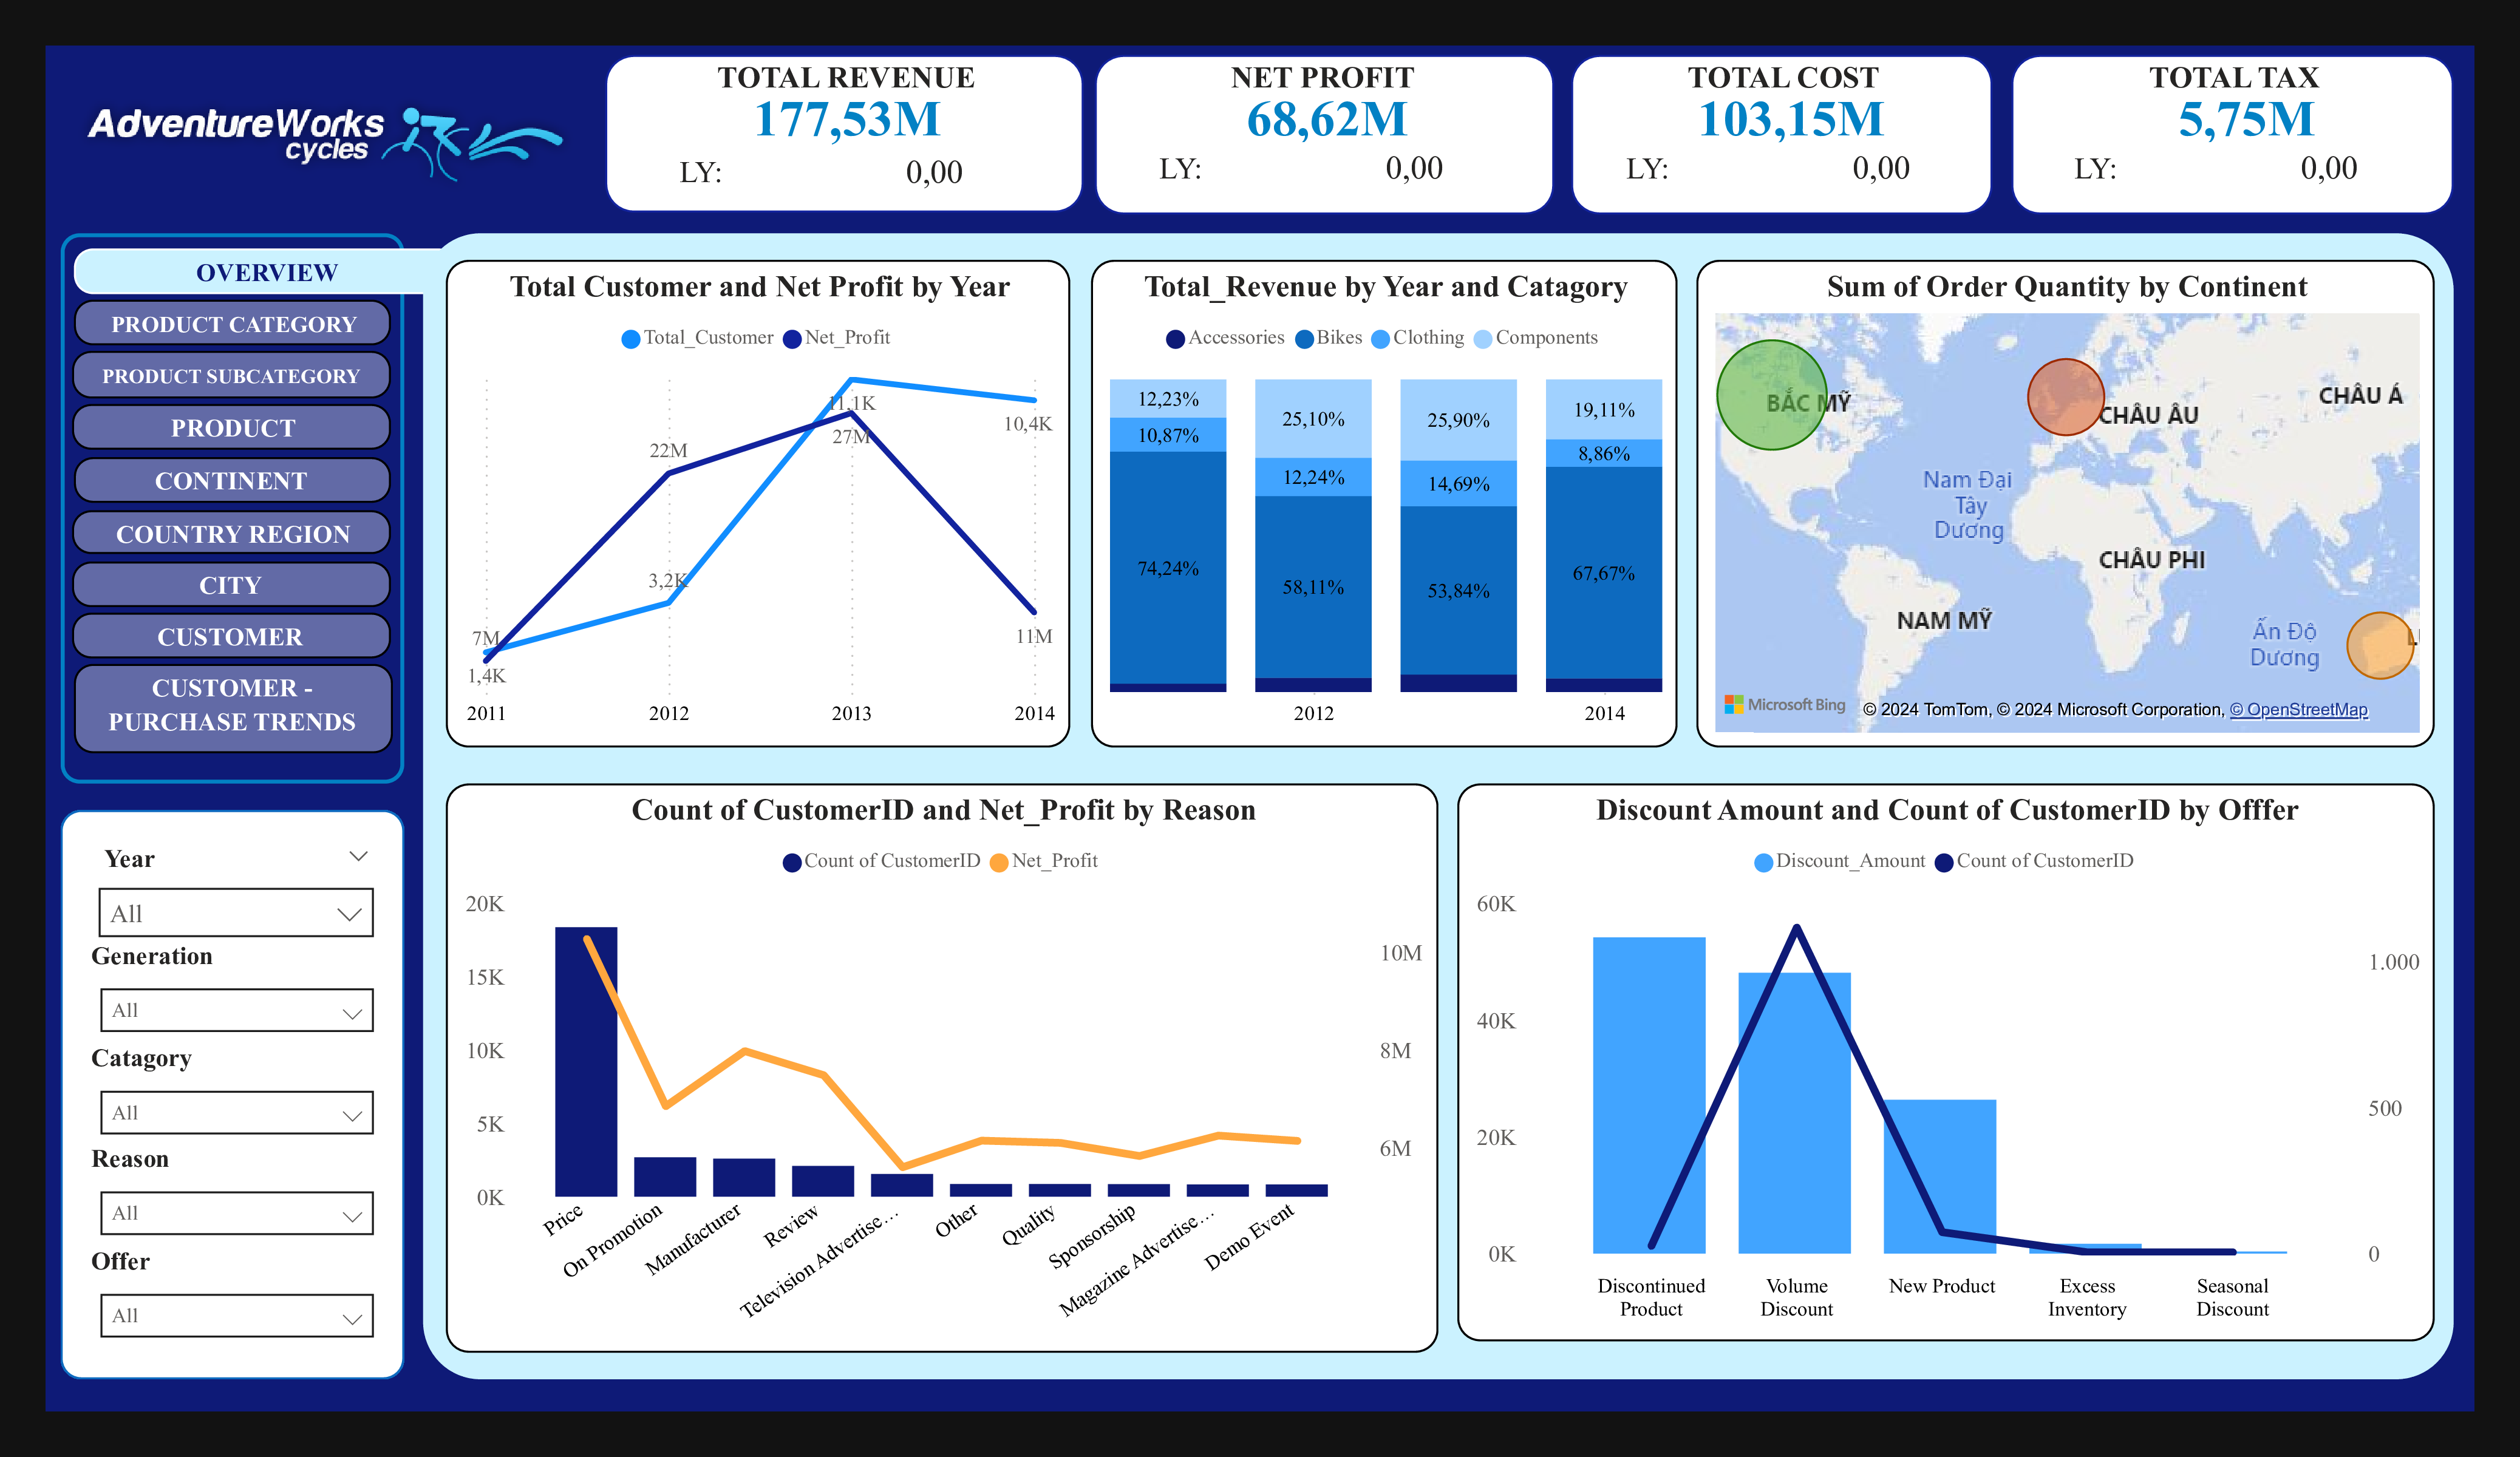

The page's visual inventory and layout, read from the dashboard file:
{"tool":"powerbi","page":{"name":"Overview ","canvas":[1280,720],"ordinal":0},"visuals":[{"type":"textbox","box":[295.4,4.6,251.2,83.5],"z":0},{"type":"group","id":"g1","title":"Group 3","box":[828.3,50.9,94.3,29.3],"z":0,"group":"g7"},{"type":"textbox","box":[828.3,50.9,83.6,29.3],"z":0,"group":"g1"},{"type":"group","id":"g2","title":"Group 3","box":[1064.3,50.9,94.3,29.3],"z":0,"group":"g8"},{"type":"textbox","box":[1064.3,50.9,83.6,29.3],"z":0,"group":"g2"},{"type":"group","id":"g3","title":"Group 3","box":[581.9,51,94.3,29.3],"z":0,"group":"g6"},{"type":"textbox","box":[581.9,51,83.6,29.3],"z":0,"group":"g3"},{"type":"group","id":"g4","title":"Group 3","box":[329.1,53.4,94.3,29.3],"z":0,"group":"g5"},{"type":"textbox","box":[329.1,53.4,83.6,29.3],"z":0,"group":"g4"},{"type":"card","fields":{"Values":["Fact_SalesOrderHeader.Total_Revenue"]},"box":[347.7,22.7,147.3,33.5],"z":1000},{"type":"card","fields":{"Values":["Fact_SalesOrderHeader.Prev_Total_Cost"]},"box":[855.1,50.9,67.5,24.3],"z":1000,"group":"g1"},{"type":"card","fields":{"Values":["Fact_SalesOrderHeader.%Change_Cost"]},"box":[922.6,50.9,90.7,29.3],"z":1000,"group":"g7"},{"type":"card","fields":{"Values":["Fact_SalesOrderHeader.Prev_Total_Tax"]},"box":[1091.1,50.9,67.5,24.3],"z":1000,"group":"g2"},{"type":"card","fields":{"Values":["Fact_SalesOrderHeader.%Change_Tax"]},"box":[1158.6,50.9,90.7,29.3],"z":1000,"group":"g8"},{"type":"card","fields":{"Values":["Fact_SalesOrderHeader.Prev_Net_Profit"]},"box":[608.7,51,67.5,24.3],"z":1000,"group":"g3"},{"type":"card","fields":{"Values":["Fact_SalesOrderHeader.%Change_Net_Profit"]},"box":[676.2,51,90.7,29.3],"z":1000,"group":"g6"},{"type":"card","fields":{"Values":["Fact_SalesOrderHeader.Prev_Total_Revenue"]},"box":[355.9,53.4,67.5,24.3],"z":1000,"group":"g4"},{"type":"card","fields":{"Values":["Fact_SalesOrderHeader.%Change_Revenue"]},"box":[423.4,53.4,90.7,29.3],"z":1000,"group":"g5"},{"type":"textbox","box":[553.3,4.8,241.9,83.8],"z":2000},{"type":"textbox","box":[803.8,5,222.5,83.8],"z":3000},{"type":"textbox","box":[1036.2,5,232.5,83.8],"z":4000},{"type":"card","fields":{"Values":["Fact_SalesOrderHeader.Net_Profit"]},"box":[587.1,22.9,174.8,33.3],"z":5000},{"type":"card","fields":{"Values":["Fact_SalesOrderHeader.Total_Cost"]},"box":[839.1,23,160,32.6],"z":6000},{"type":"card","fields":{"Values":["Fact_SalesOrderHeader.Total_Tax"]},"box":[1091.7,23,133.9,32.6],"z":7000},{"type":"group","id":"g5","title":"Group 4","box":[329.1,53.4,184.4,29.1],"z":8000},{"type":"group","id":"g6","title":"Group 4","box":[581.9,51,184.8,29],"z":9000},{"type":"group","id":"g7","title":"Group 4","box":[828.3,50.9,185.2,29.1],"z":10000},{"type":"group","id":"g8","title":"Group 4","box":[1064.3,50.9,184.8,29.1],"z":11000},{"type":"slicer","fields":{"Values":["Datetime.OrderDate.Variation.Date Hierarchy.Year"]},"box":[18.2,416.2,165.2,56.5],"z":11000,"group":"g9"},{"type":"shape","box":[7.5,99,181.5,290],"z":12000},{"type":"slicer","title":"Catagory ","fields":{"Values":["ProductCategory.Name"]},"box":[19,526.6,164.4,52.7],"z":12000,"group":"g9"},{"type":"image","box":[0,22,295,61],"z":13000},{"type":"slicer","title":"Reason ","fields":{"Values":["SalesReason.Name"]},"box":[19,579.3,164.4,54],"z":13000,"group":"g9"},{"type":"textbox","box":[14.6,106.9,202.3,23.8],"z":14000},{"type":"slicer","title":"Offer ","fields":{"Values":["SpecialOffer.Type"]},"box":[19,633.3,164.4,55.2],"z":14000,"group":"g9"},{"type":"textbox","box":[14.8,134.1,167,24.1],"z":15000},{"type":"slicer","title":"Generation","fields":{"Values":["Sales Customer.Generation"]},"box":[19,472.7,164.4,55.2],"z":15000,"group":"g9"},{"type":"textbox","box":[14.4,161.5,167.4,24.1],"z":16000},{"type":"textbox","box":[14.4,188.9,167.4,24.4],"z":17000},{"type":"textbox","box":[14.7,216.8,167.4,23.7],"z":18000},{"type":"textbox","box":[14.2,244.7,167.4,23.7],"z":19000},{"type":"textbox","box":[14.2,272.1,167.4,23.7],"z":20000},{"type":"textbox","box":[14.2,299.5,167.4,23.7],"z":21000},{"type":"shape","box":[8.2,402.5,181.2,300],"z":22000},{"type":"group","id":"g9","title":"Group 1","box":[18.2,416.2,165,272.5],"z":23000},{"type":"shape","box":[198.8,98.8,1070,603.8],"z":24000},{"type":"map","title":"Sum of Order Quantity by Continent","fields":{"Category":["Continent.Continent"],"Size":["Sum(Fact_SalesOrderDetail.OrderQty)"]},"box":[870,112.9,388.6,257.1],"z":25000},{"type":"textbox","box":[15,326.1,167.8,47.2],"z":26000},{"type":"hundredPercentStackedColumnChart","title":"Total_Revenue by Year and Catagory ","fields":{"Category":["Year.Year"],"Series":["ProductCategory.Name"],"Y":["Fact_SalesOrderHeader.Total_Revenue"]},"box":[551.4,112.9,308.6,257.1],"z":27000},{"type":"lineChart","title":"Total Customer and Net Profit by Year","fields":{"Category":["Year.Year"],"Y2":["Fact_SalesOrderHeader.Net_Profit"],"Y":["Fact_SalesOrderHeader.Total_Customer"]},"box":[211.4,112.9,328.6,257.1],"z":28000},{"type":"lineClusteredColumnComboChart","title":"Count of CustomerID and Net_Profit by Reason ","fields":{"Category":["SalesReason.Name"],"Y":["CountNonNull(Fact_SalesOrderHeader.CustomerID)"],"Y2":["Fact_SalesOrderHeader.Net_Profit"]},"box":[211.4,388.6,522.9,300],"z":29000},{"type":"lineClusteredColumnComboChart","title":"Discount Amount and Count of CustomerID by Offfer","fields":{"Category":["SpecialOffer.Type"],"Y":["Fact_SalesOrderDetail.Discount_Amount"],"Y2":["CountNonNull(Fact_SalesOrderHeader.CustomerID)"]},"box":[744.3,388.6,514.3,294.3],"z":30000}]}

Visuals, with their boxes on the page's 1280x720 design canvas (x1, y1, x2, y2). These are canvas units, not pixel positions in the 2520x1457 screenshot, which may show the page scaled, cropped or inside an application window:
textbox: <box>295,5,547,88</box>
"Group 3" group: <box>828,51,923,80</box>
textbox: <box>828,51,912,80</box>
"Group 3" group: <box>1064,51,1159,80</box>
textbox: <box>1064,51,1148,80</box>
"Group 3" group: <box>582,51,676,80</box>
textbox: <box>582,51,666,80</box>
"Group 3" group: <box>329,53,423,83</box>
textbox: <box>329,53,413,83</box>
card - Fact_SalesOrderHeader.Total_Revenue: <box>348,23,495,56</box>
card - Fact_SalesOrderHeader.Prev_Total_Cost: <box>855,51,923,75</box>
card - Fact_SalesOrderHeader.%Change_Cost: <box>923,51,1013,80</box>
card - Fact_SalesOrderHeader.Prev_Total_Tax: <box>1091,51,1159,75</box>
card - Fact_SalesOrderHeader.%Change_Tax: <box>1159,51,1249,80</box>
card - Fact_SalesOrderHeader.Prev_Net_Profit: <box>609,51,676,75</box>
card - Fact_SalesOrderHeader.%Change_Net_Profit: <box>676,51,767,80</box>
card - Fact_SalesOrderHeader.Prev_Total_Revenue: <box>356,53,423,78</box>
card - Fact_SalesOrderHeader.%Change_Revenue: <box>423,53,514,83</box>
textbox: <box>553,5,795,89</box>
textbox: <box>804,5,1026,89</box>
textbox: <box>1036,5,1269,89</box>
card - Fact_SalesOrderHeader.Net_Profit: <box>587,23,762,56</box>
card - Fact_SalesOrderHeader.Total_Cost: <box>839,23,999,56</box>
card - Fact_SalesOrderHeader.Total_Tax: <box>1092,23,1226,56</box>
"Group 4" group: <box>329,53,514,82</box>
"Group 4" group: <box>582,51,767,80</box>
"Group 4" group: <box>828,51,1014,80</box>
"Group 4" group: <box>1064,51,1249,80</box>
slicer - Datetime.OrderDate.Variation.Date Hierarchy.Year: <box>18,416,183,473</box>
shape: <box>8,99,189,389</box>
"Catagory " slicer: <box>19,527,183,579</box>
image: <box>0,22,295,83</box>
"Reason " slicer: <box>19,579,183,633</box>
textbox: <box>15,107,217,131</box>
"Offer " slicer: <box>19,633,183,688</box>
textbox: <box>15,134,182,158</box>
"Generation" slicer: <box>19,473,183,528</box>
textbox: <box>14,162,182,186</box>
textbox: <box>14,189,182,213</box>
textbox: <box>15,217,182,240</box>
textbox: <box>14,245,182,268</box>
textbox: <box>14,272,182,296</box>
textbox: <box>14,300,182,323</box>
shape: <box>8,402,189,702</box>
"Group 1" group: <box>18,416,183,689</box>
shape: <box>199,99,1269,703</box>
"Sum of Order Quantity by Continent" map: <box>870,113,1259,370</box>
textbox: <box>15,326,183,373</box>
"Total_Revenue by Year and Catagory " hundredPercentStackedColumnChart: <box>551,113,860,370</box>
"Total Customer and Net Profit by Year" lineChart: <box>211,113,540,370</box>
"Count of CustomerID and Net_Profit by Reason " lineClusteredColumnComboChart: <box>211,389,734,689</box>
"Discount Amount and Count of CustomerID by Offfer" lineClusteredColumnComboChart: <box>744,389,1259,683</box>
